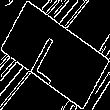L_NE: (32, 25, 78, 85)
